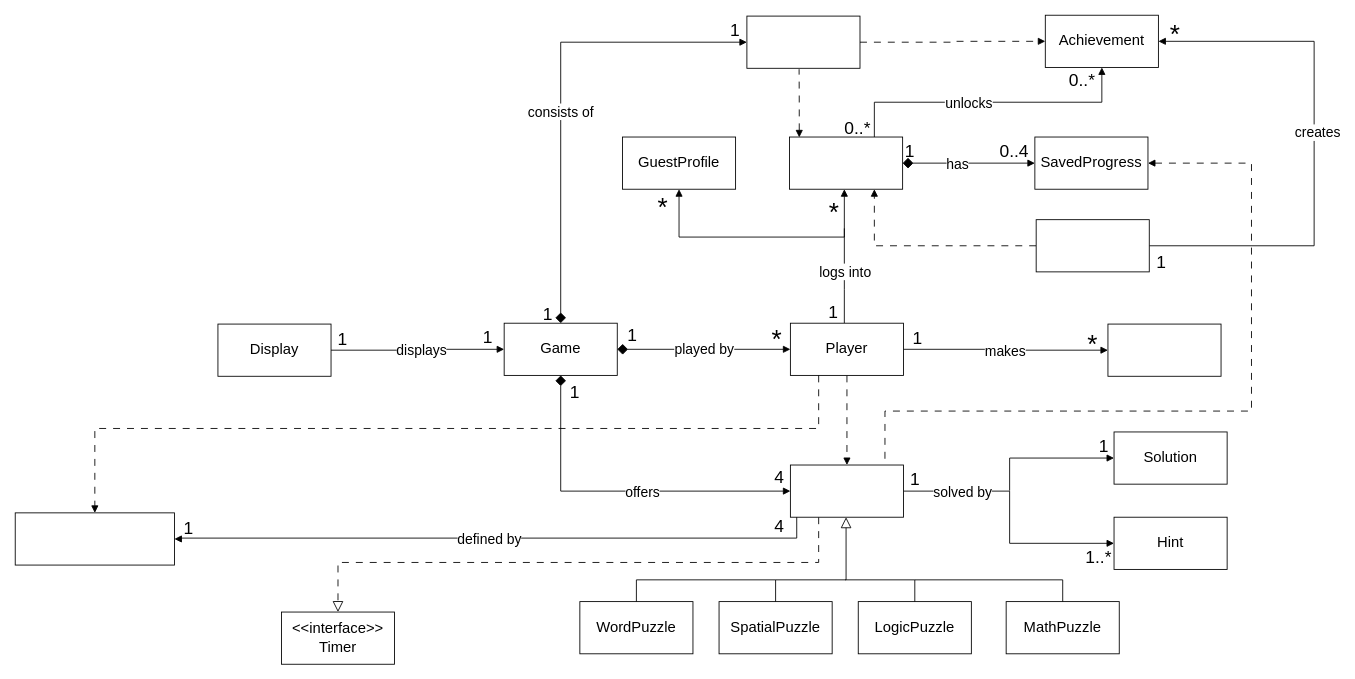
The diagram is 1355 pixels wide and 679 high, and some of its shapes have lost their labels. The box of each missing label's shape, as (x1, y1, x2, y2) in pixels:
<<enumeration>> DifficultyLevel: (14, 512, 174, 565)
AccountProfile: (789, 136, 903, 189)
Admin: (1035, 219, 1149, 272)
Leaderboard: (746, 15, 860, 68)
Move: (1107, 323, 1221, 376)
Puzzle: (790, 464, 903, 517)
